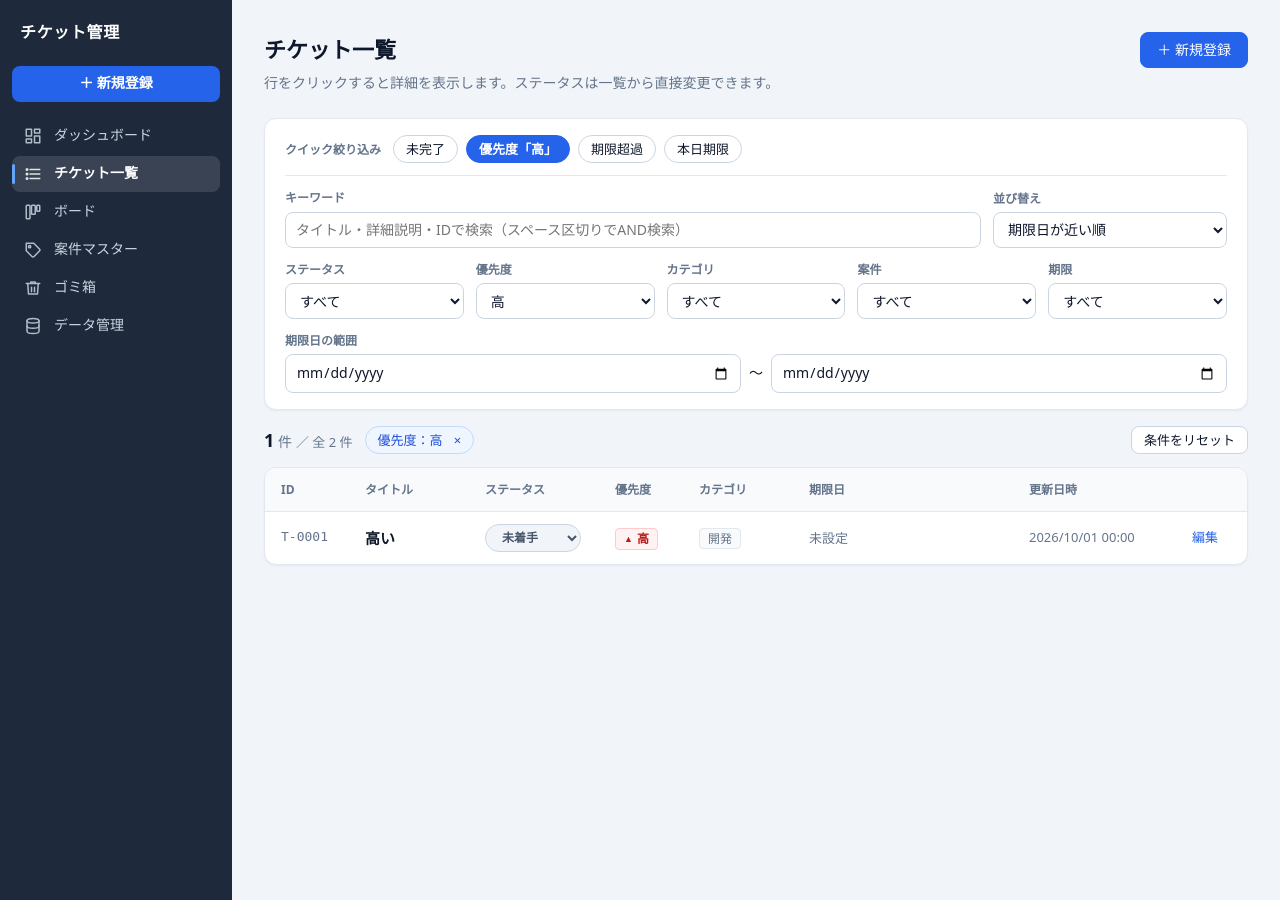
Scenario: チケット詳細画面 › 一覧から開いた場合、「一覧に戻る」で同じ検索条件の一覧に戻る
The image size is (1280, 900).
Click the link "高い" at (380, 538), box [365,528,395,548]
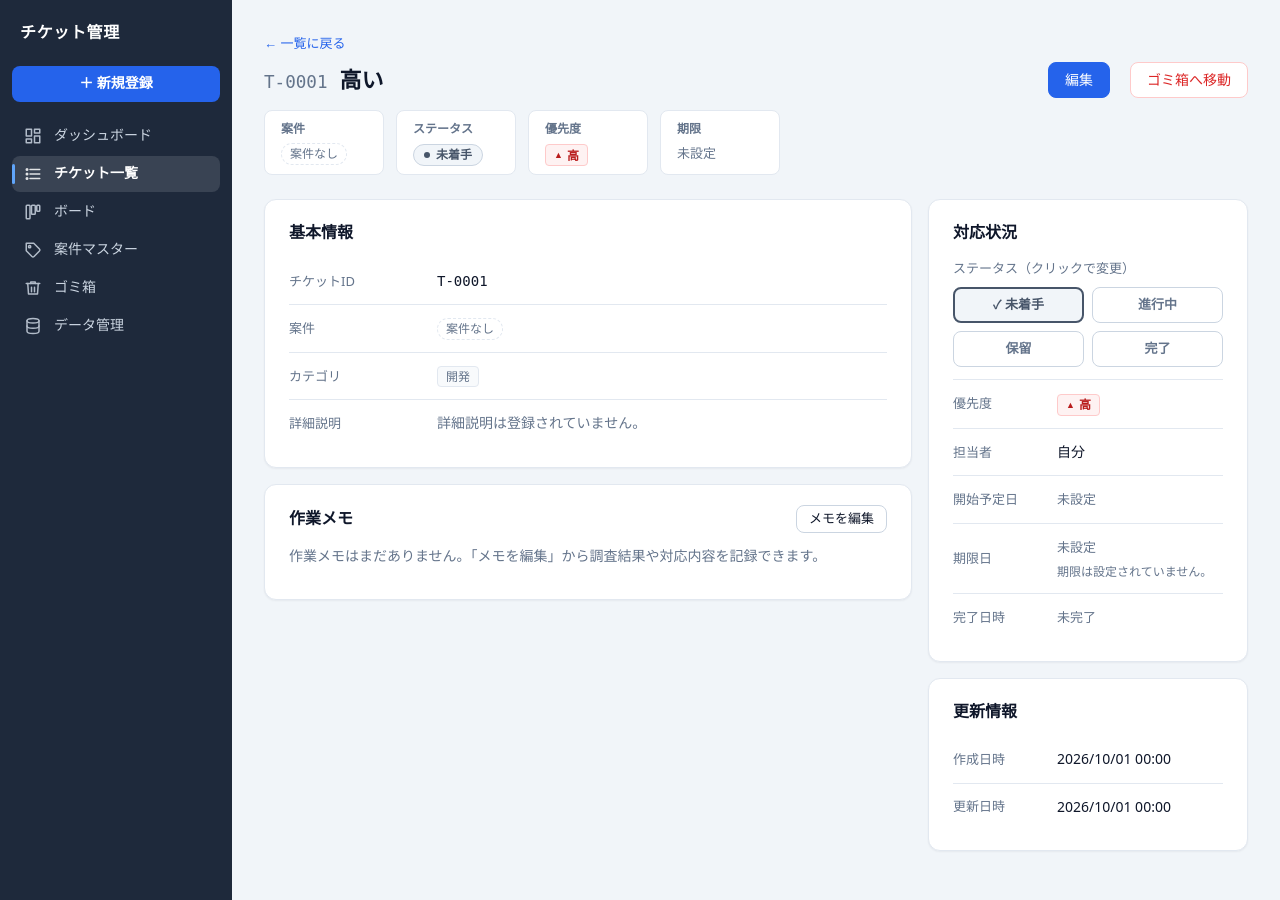
Click the link "← 一覧に戻る" at (305, 43), box [264,33,345,54]
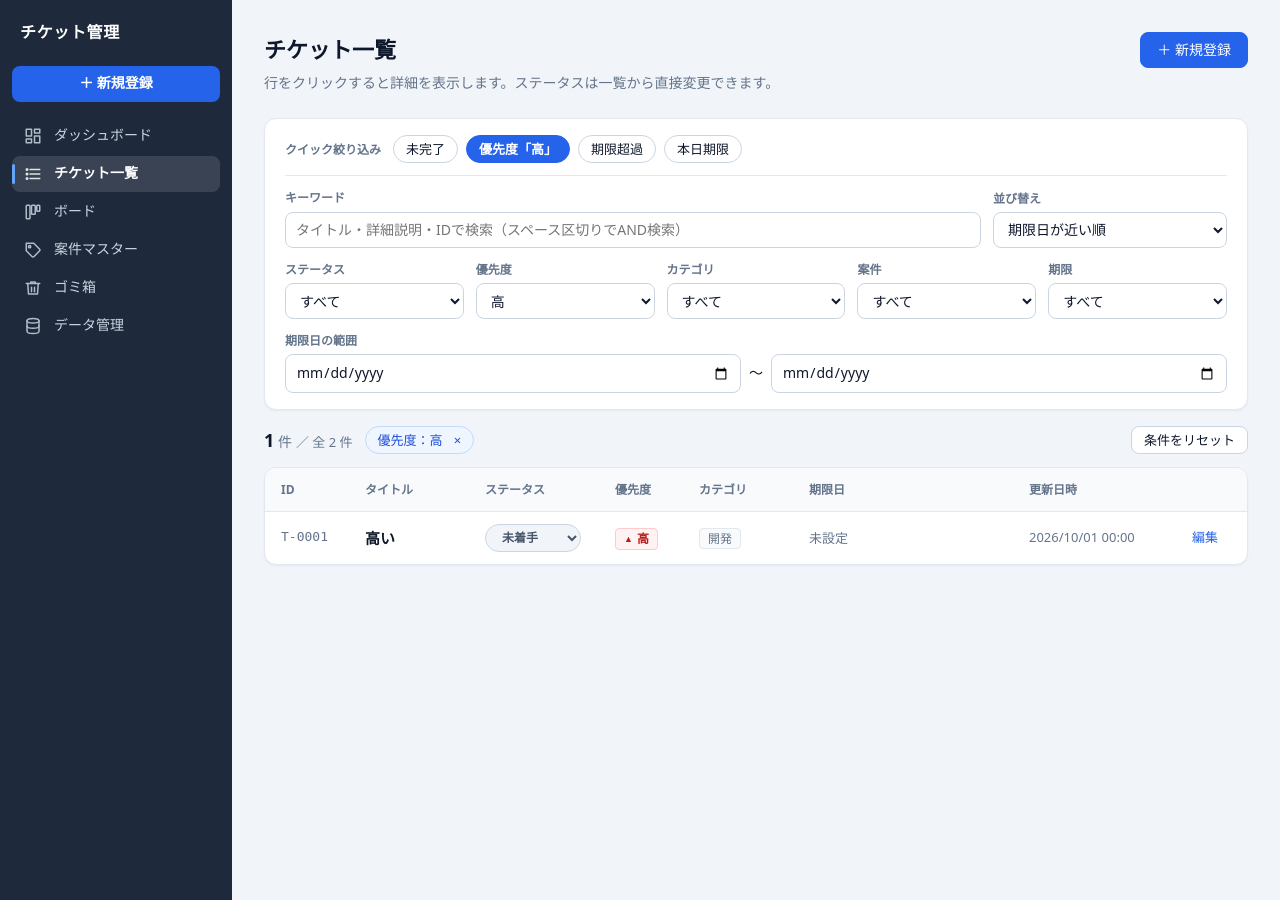
expect the text "優先度：高" is shown: met, box [378,430,442,450]
